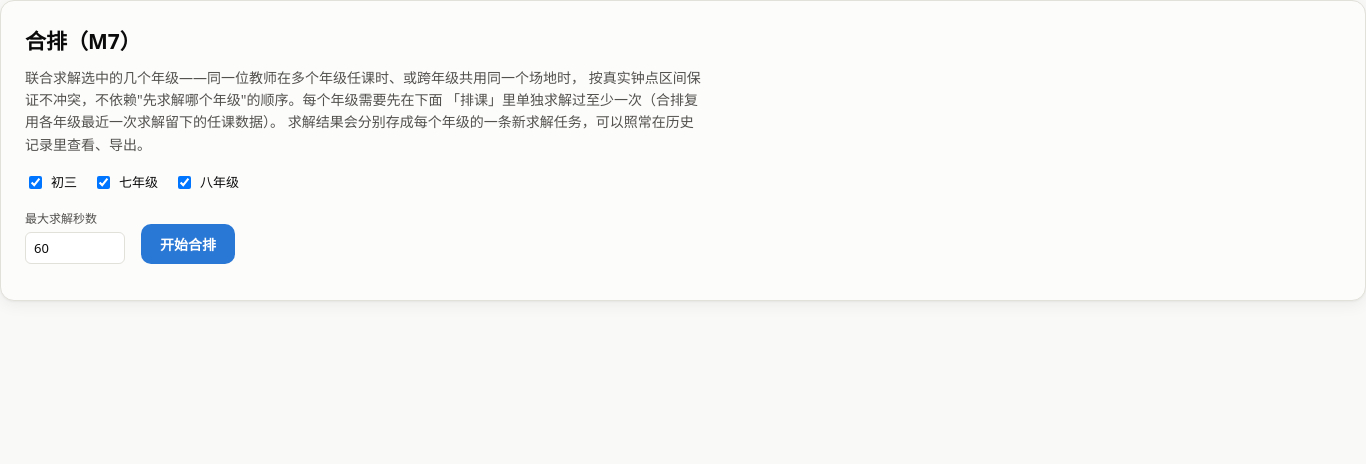
Test: MergedSolveSettings › preselects all grades and runs a merged solve
Click the button with test id "run-merged-solve-button" at (188, 244), box x1=141 y1=224 x2=235 y2=264
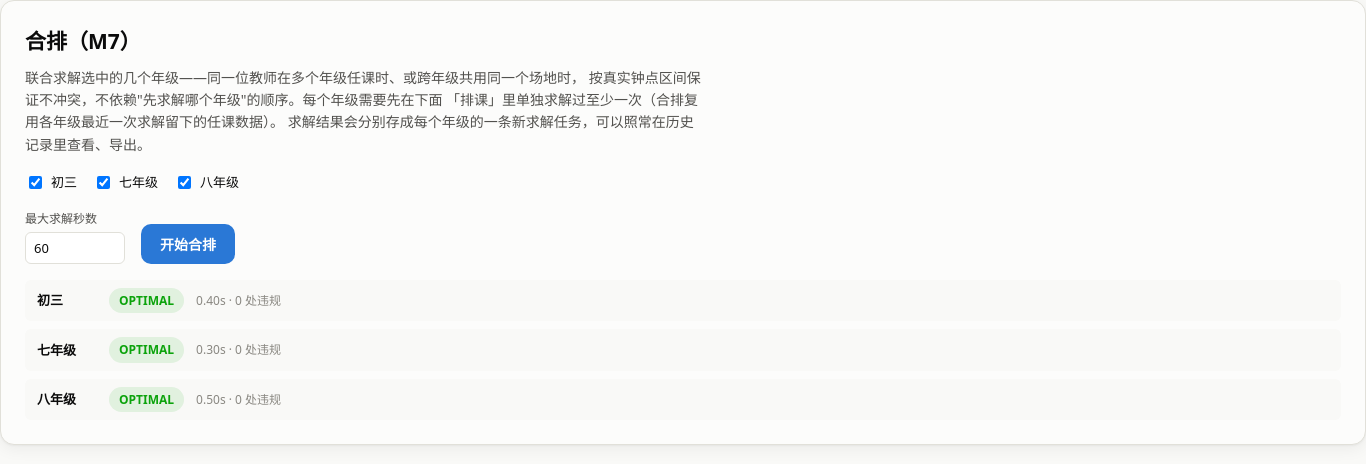
Result: the number of list items with test id "merged-result-row" is 3 at x1=25 y1=280 x2=1341 y2=321; x1=25 y1=329 x2=1341 y2=370; x1=25 y1=378 x2=1341 y2=420
Result: the list item with test id "merged-result-row" shows "初三" at x1=37 y1=291 x2=63 y2=309
Result: the list item with test id "merged-result-row" shows "OPTIMAL" at x1=119 y1=292 x2=174 y2=309
